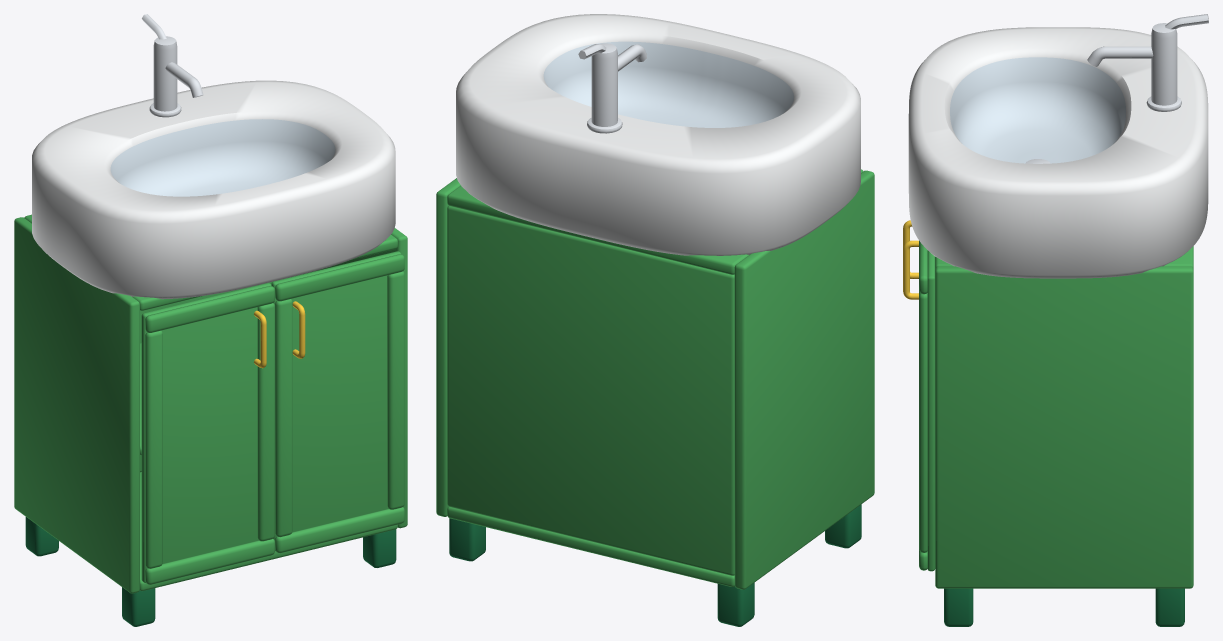
The model's file is gabinete_pia_arredondado_verde.glb.
3 renders of one model, left to right at view 1: azimuth 30°, elevation 25°; view 2: azimuth 150°, elevation 25°; view 3: azimuth 270°, elevation 25°, orthographic. The views are drawn at different scales.
Visible parts, largest first — view 1: gabinete_pia_arredondado_verde, porta_1, porta_2; view 2: gabinete_pia_arredondado_verde; view 3: gabinete_pia_arredondado_verde, porta_2.
Part boxes in pixels (box(x1,y1,x2,y2)): gabinete_pia_arredondado_verde: box(14, 14, 407, 626); porta_1: box(141, 283, 274, 584); porta_2: box(271, 251, 404, 553); gabinete_pia_arredondado_verde: box(436, 14, 874, 626); gabinete_pia_arredondado_verde: box(908, 14, 1208, 626); porta_2: box(903, 240, 935, 571).
Bounding box in the file's own units: 0.6598 × 1.02 × 0.5208.
1 material, 1 textured.
